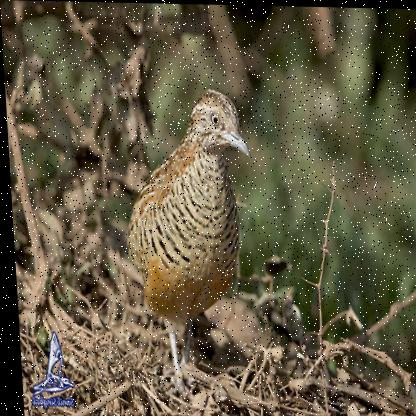Burung: (119, 85, 261, 383)
